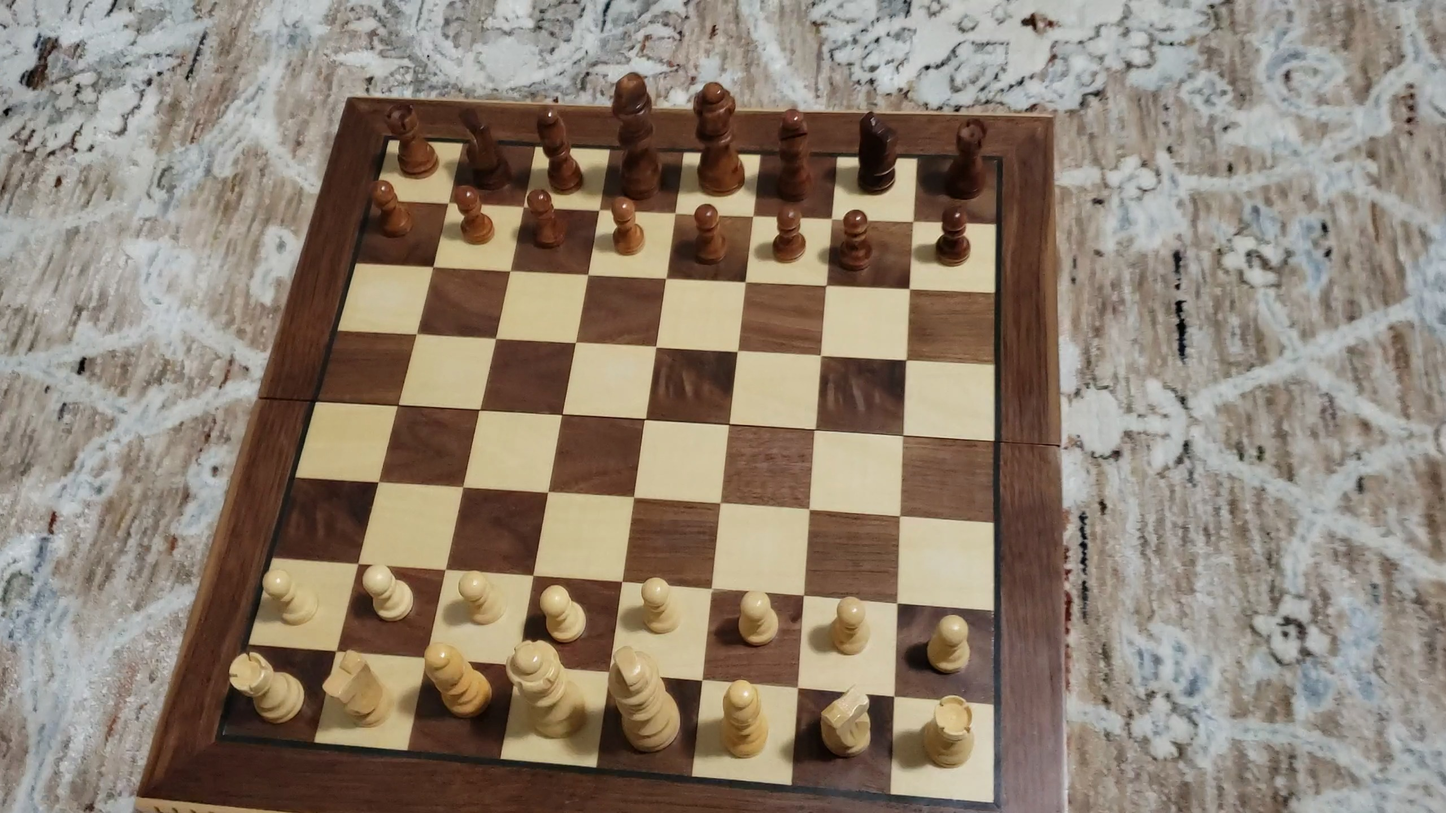black-bishop: (526, 101, 592, 196), (768, 103, 822, 204)
black-king: (609, 69, 660, 199)
black-knight: (458, 103, 507, 190), (855, 108, 899, 195)
black-pawn: (452, 183, 495, 247), (522, 187, 565, 251), (835, 206, 875, 274), (934, 204, 973, 268), (371, 178, 410, 239), (691, 199, 725, 266), (610, 195, 644, 258), (772, 204, 807, 265)
black-queen: (680, 72, 755, 204)
black-rook: (384, 103, 437, 178), (943, 117, 990, 200)
white-bishop: (421, 641, 492, 720), (718, 676, 772, 762)
white-king: (608, 642, 681, 756)
white-knight: (321, 647, 394, 731), (811, 683, 883, 762)
white-pawn: (258, 565, 322, 629), (923, 610, 975, 678), (360, 561, 416, 624), (826, 590, 876, 658), (733, 584, 783, 651), (454, 567, 506, 628), (537, 583, 588, 645), (637, 572, 683, 637)
white-queen: (506, 640, 587, 741)
white-rook: (229, 650, 304, 727), (920, 691, 976, 771)
